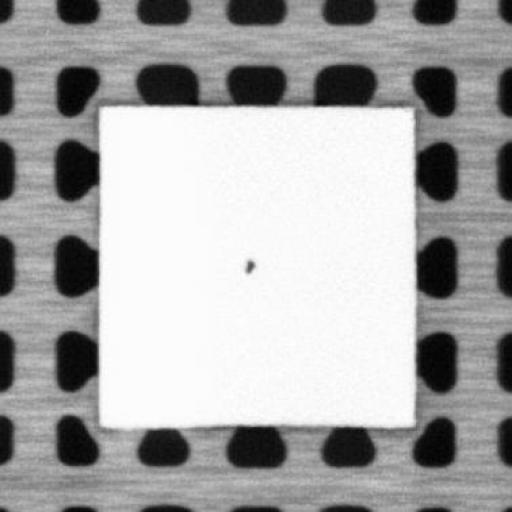DIE_INK: (238, 256, 255, 274)
